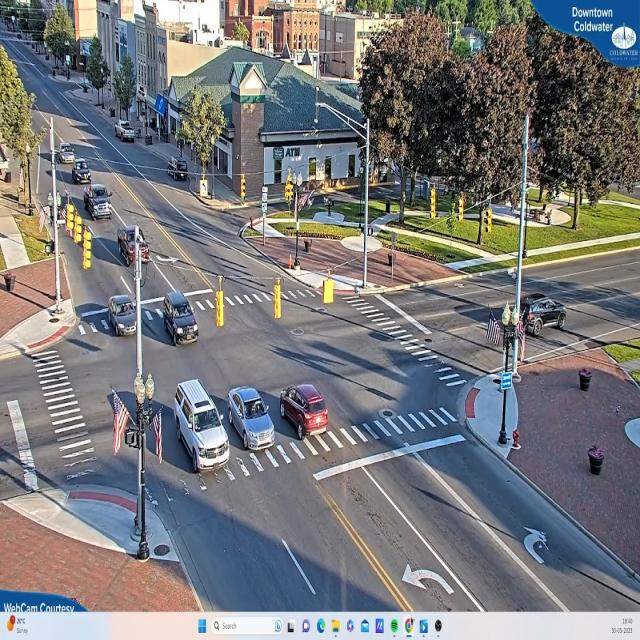car: (174, 384, 228, 474), (227, 387, 277, 452), (280, 384, 332, 440), (517, 292, 570, 340), (154, 294, 198, 346), (116, 221, 154, 265), (109, 294, 136, 338), (85, 185, 114, 220), (166, 159, 189, 180), (70, 160, 90, 183), (116, 123, 136, 143)
